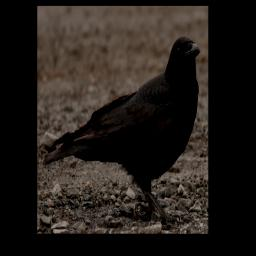Crow: (42, 35, 200, 225)
